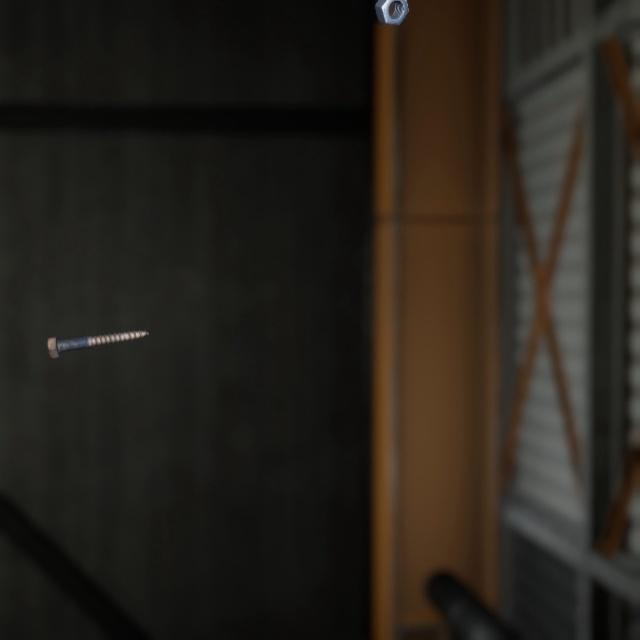bolt: (42, 307, 153, 345)
nut: (370, 0, 413, 23)
